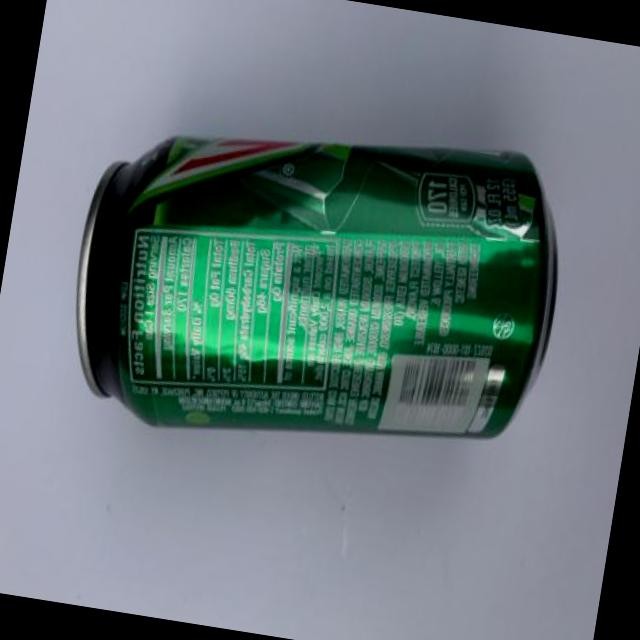nhom: (75, 134, 558, 439)
